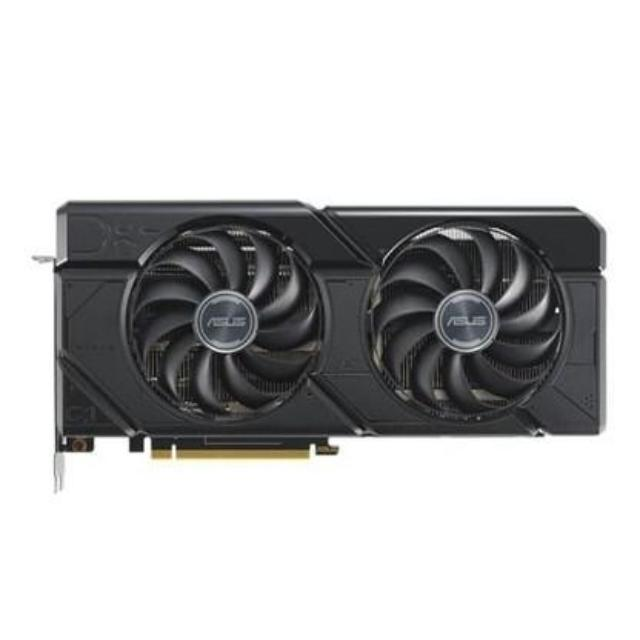GPU: (42, 196, 616, 467)
